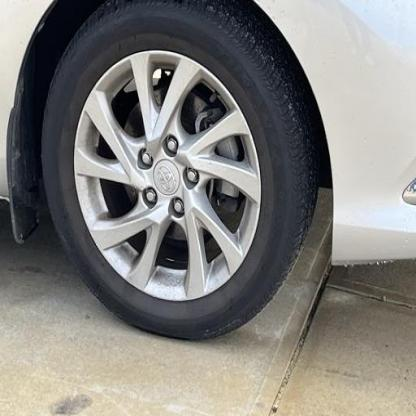Tire: (42, 0, 318, 344)
